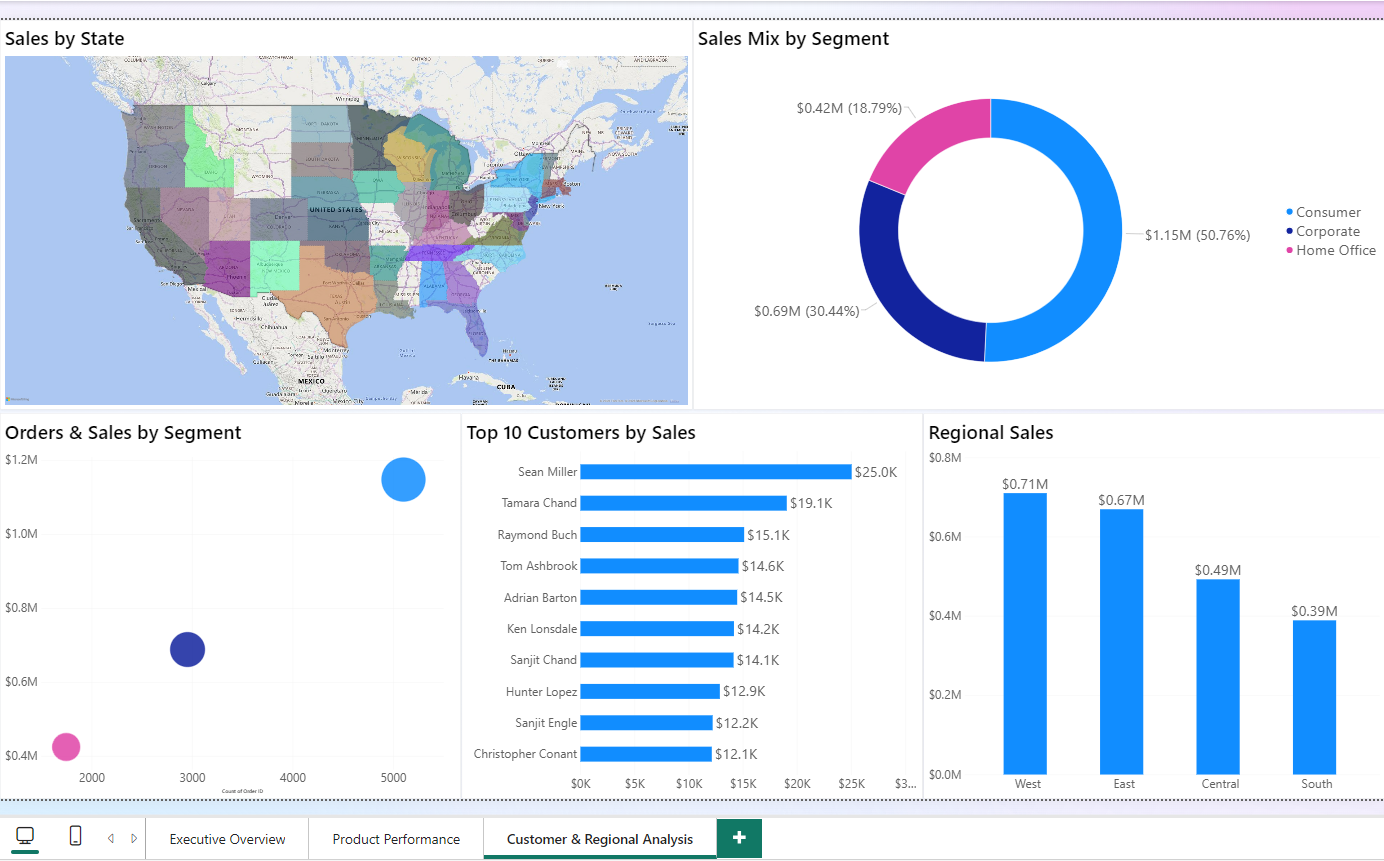

Layout of this report page (visuals, bound fields, positions):
{"tool":"powerbi","page":{"name":"Customer & Regional Analysis","canvas":[3840,2160],"ordinal":2},"visuals":[{"type":"filledMap","title":"Sales by State","fields":{"Category":["Superstore.State"],"Series":["Superstore.Sales"]},"box":[0,0,1921.3,1080.3],"z":0},{"type":"scatterChart","title":"Orders & Sales by Segment","fields":{"Series":["Superstore.Segment"],"Size":["Sum(Superstore.Sales)"],"X":["Superstore.Order ID"],"Y":["Sum(Superstore.Sales)"]},"box":[0,1091.5,1278.4,1070],"z":1},{"type":"clusteredColumnChart","title":"Regional Sales","fields":{"Category":["Superstore.Region"],"Y":["Sum(Superstore.Sales)"]},"box":[2560.5,1091.5,1278.4,1070],"z":2},{"type":"donutChart","title":"Sales Mix by Segment","fields":{"Category":["Superstore.Segment"],"Y":["Sum(Superstore.Sales)"]},"box":[1921.3,0,1917.6,1080.3],"z":3},{"type":"clusteredBarChart","title":"Top 10 Customers by Sales","fields":{"Category":["Superstore.Customer Name"],"Y":["Sum(Superstore.Sales)"]},"box":[1282.1,1091.5,1278.4,1070],"z":4}]}

Visuals, with their boxes on the page's 3840x2160 design canvas (x1, y1, x2, y2). These are canvas units, not pixel positions in the 1384x861 screenshot, which may show the page scaled, cropped or inside an application window:
"Sales by State" filledMap: detection(0, 0, 1921, 1080)
"Orders & Sales by Segment" scatterChart: detection(0, 1092, 1278, 2162)
"Regional Sales" clusteredColumnChart: detection(2560, 1092, 3839, 2162)
"Sales Mix by Segment" donutChart: detection(1921, 0, 3839, 1080)
"Top 10 Customers by Sales" clusteredBarChart: detection(1282, 1092, 2560, 2162)
